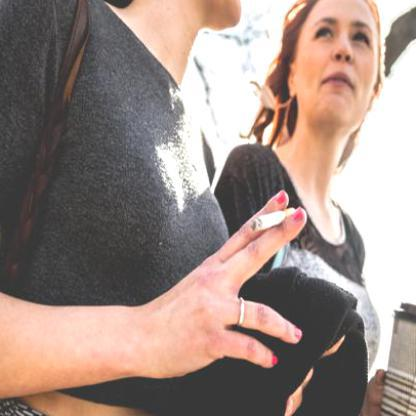cigarette: (248, 206, 299, 229)
person: (0, 0, 243, 415), (235, 0, 388, 415)
